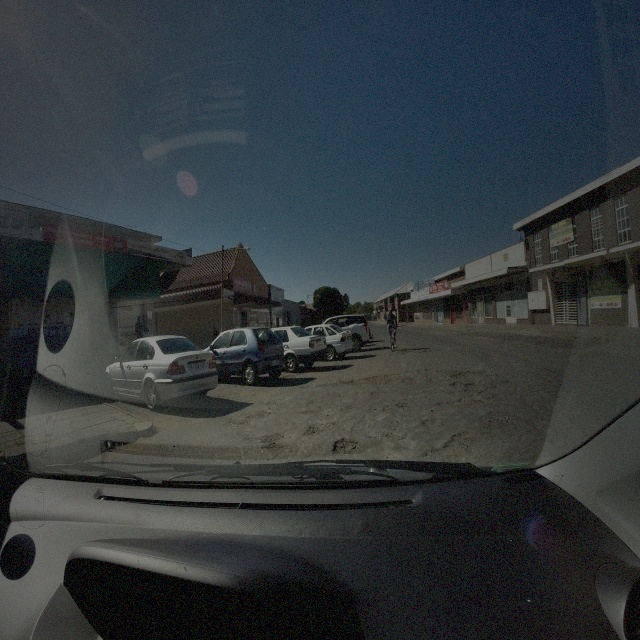pothole: (443, 429, 471, 451), (256, 431, 284, 449), (348, 374, 398, 384), (450, 369, 488, 382), (332, 437, 359, 455), (488, 413, 517, 425), (304, 423, 328, 436), (450, 381, 476, 392), (396, 400, 411, 410), (492, 382, 510, 390)
